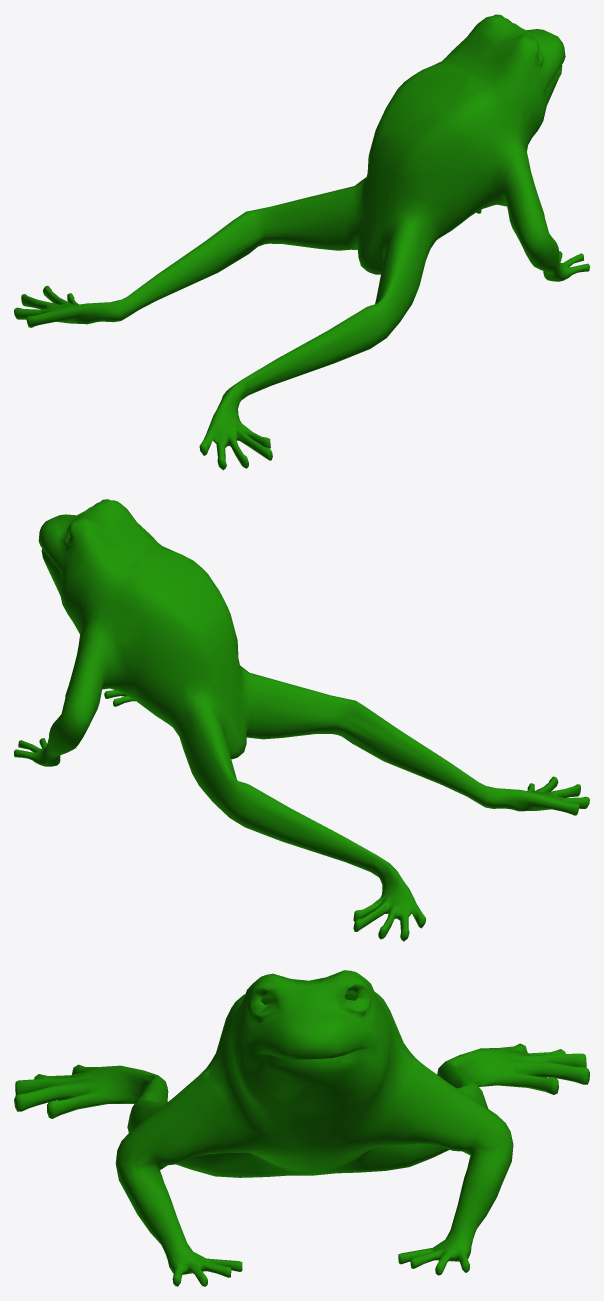
Rendered from rana3.obj.
3 renders of one model, top to bottom at view 1: azimuth 30°, elevation 25°; view 2: azimuth 150°, elevation 25°; view 3: azimuth 270°, elevation 25°, orthographic. The views are drawn at different scales.
Parts seen in each view (by area): view 1: frog_body; view 2: frog_body; view 3: frog_body.
Boxes of the visible parts, left/top/right/bottom form: frog_body: left=14, top=14, right=589, bottom=470; frog_body: left=14, top=499, right=589, bottom=941; frog_body: left=14, top=970, right=589, bottom=1286.
Bounding box in the file's own units: 1.95 × 1.12 × 1.56.
